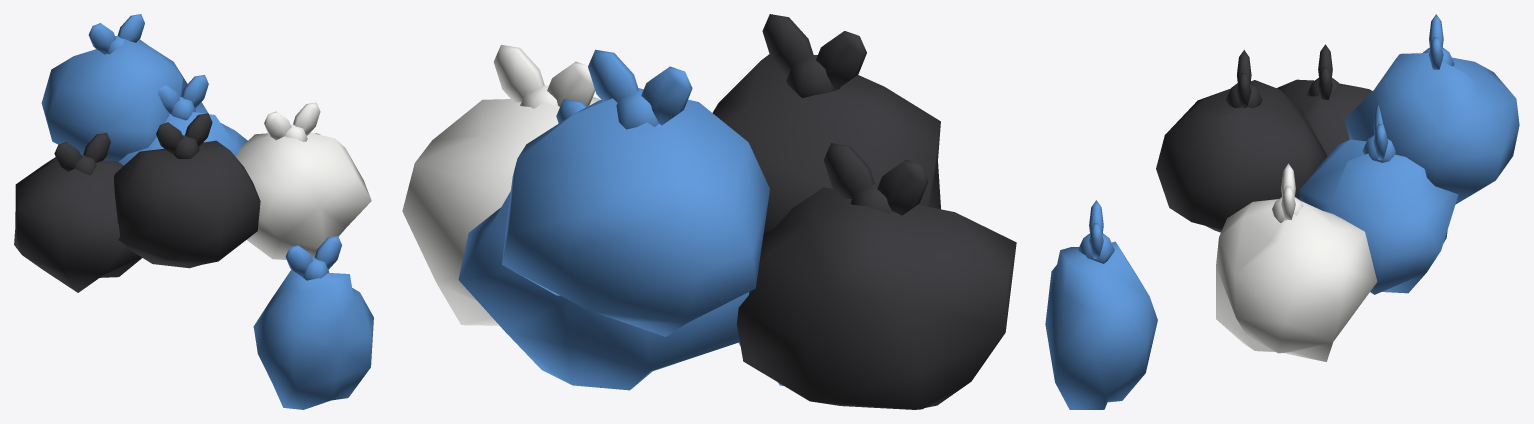
Rendered from municipal_bin_overflow.fbx.
The picture shows the model from 3 angles, left to right: view 1: azimuth 30°, elevation 25°; view 2: azimuth 150°, elevation 25°; view 3: azimuth 270°, elevation 25°; orthographic projection. The views are drawn at different scales.
Parts seen in each view (by area): view 1: municipal_bin_overflow; view 2: municipal_bin_overflow; view 3: municipal_bin_overflow.
Boxes of the visible parts, x1,y1,x2,y2 form: municipal_bin_overflow: (14, 14, 373, 409); municipal_bin_overflow: (402, 14, 1016, 409); municipal_bin_overflow: (1045, 14, 1519, 409).
Size of the model in its own units: 1.23 by 1.03 by 1.28.
